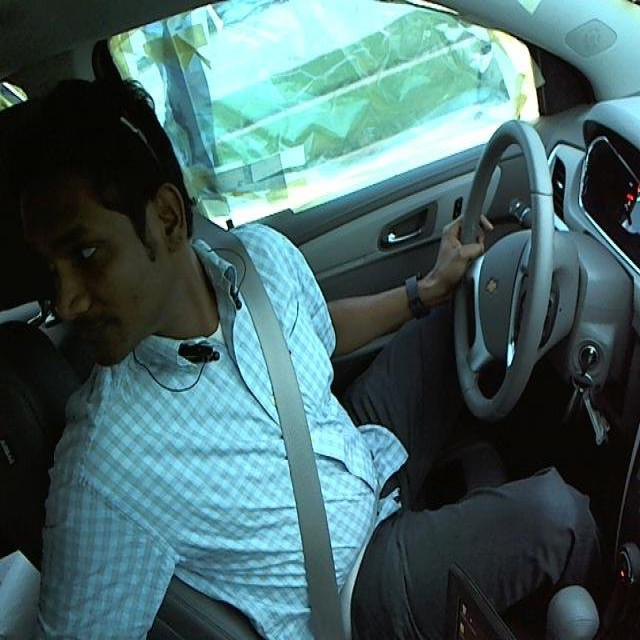seatbelt: (227, 256, 378, 639)
